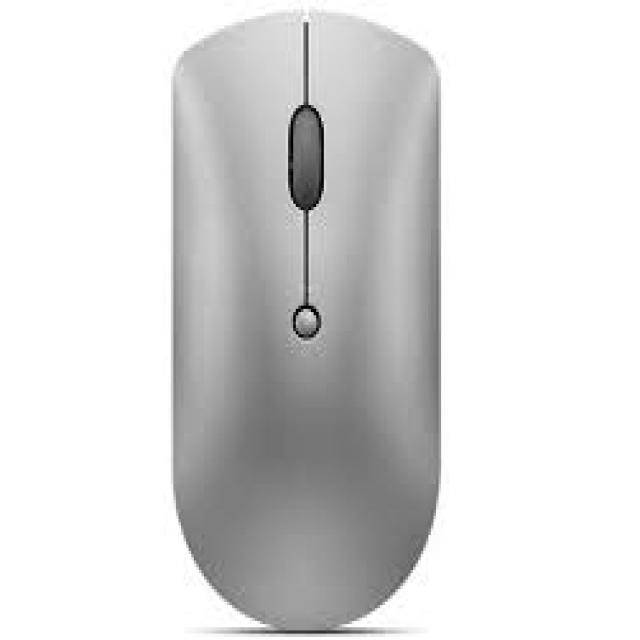others: (156, 3, 464, 627)
